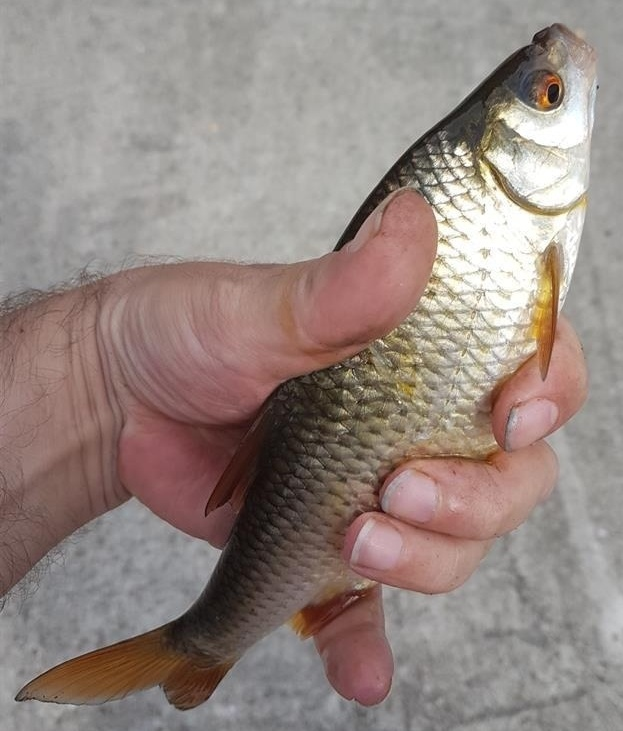Rutilus rutilus: (13, 20, 603, 711)
